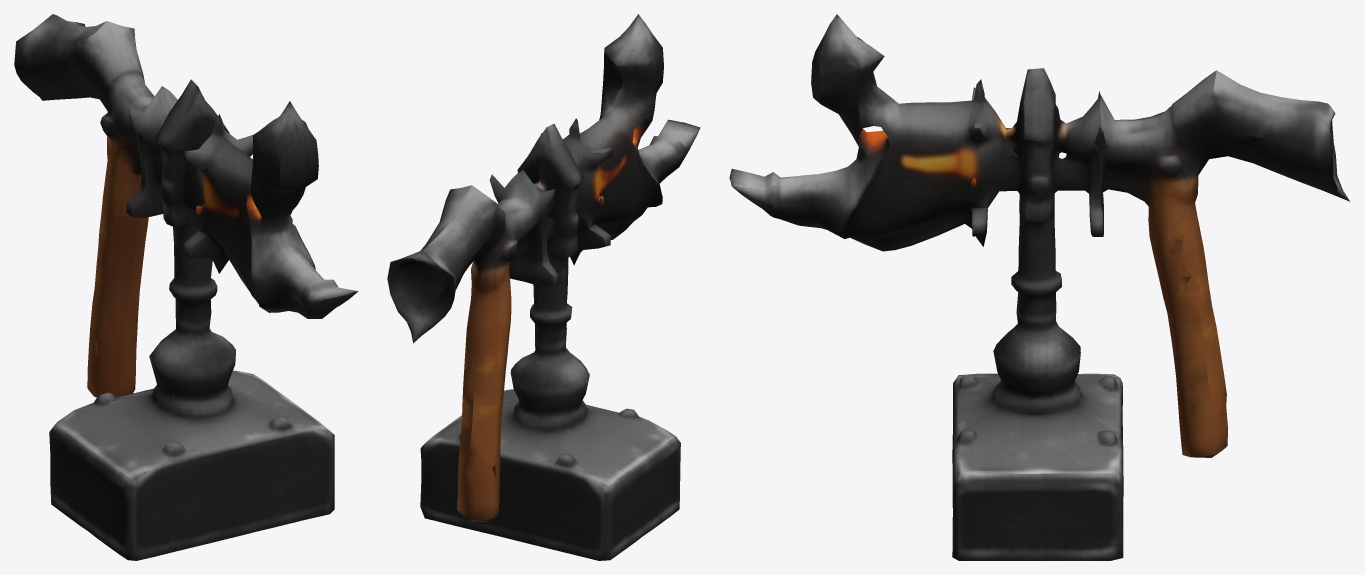
File: foundry-forge-relic.glb
3 renders of one model, left to right at view 1: azimuth 30°, elevation 25°; view 2: azimuth 150°, elevation 25°; view 3: azimuth 270°, elevation 25°, orthographic. The views are drawn at different scales.
Visible parts, largest first — view 1: a-classic-heavy-blacksmith-anvil-alone-long_optimized; view 2: a-classic-heavy-blacksmith-anvil-alone-long_optimized; view 3: a-classic-heavy-blacksmith-anvil-alone-long_optimized.
Part boxes in pixels (bbox=[...]): a-classic-heavy-blacksmith-anvil-alone-long_optimized: bbox=[14, 14, 358, 560]; a-classic-heavy-blacksmith-anvil-alone-long_optimized: bbox=[387, 14, 700, 560]; a-classic-heavy-blacksmith-anvil-alone-long_optimized: bbox=[729, 14, 1349, 560].
Bounding box in the file's own units: 0.4006 × 0.8735 × 0.9931.
Materials: 1 (1 with a texture image).
